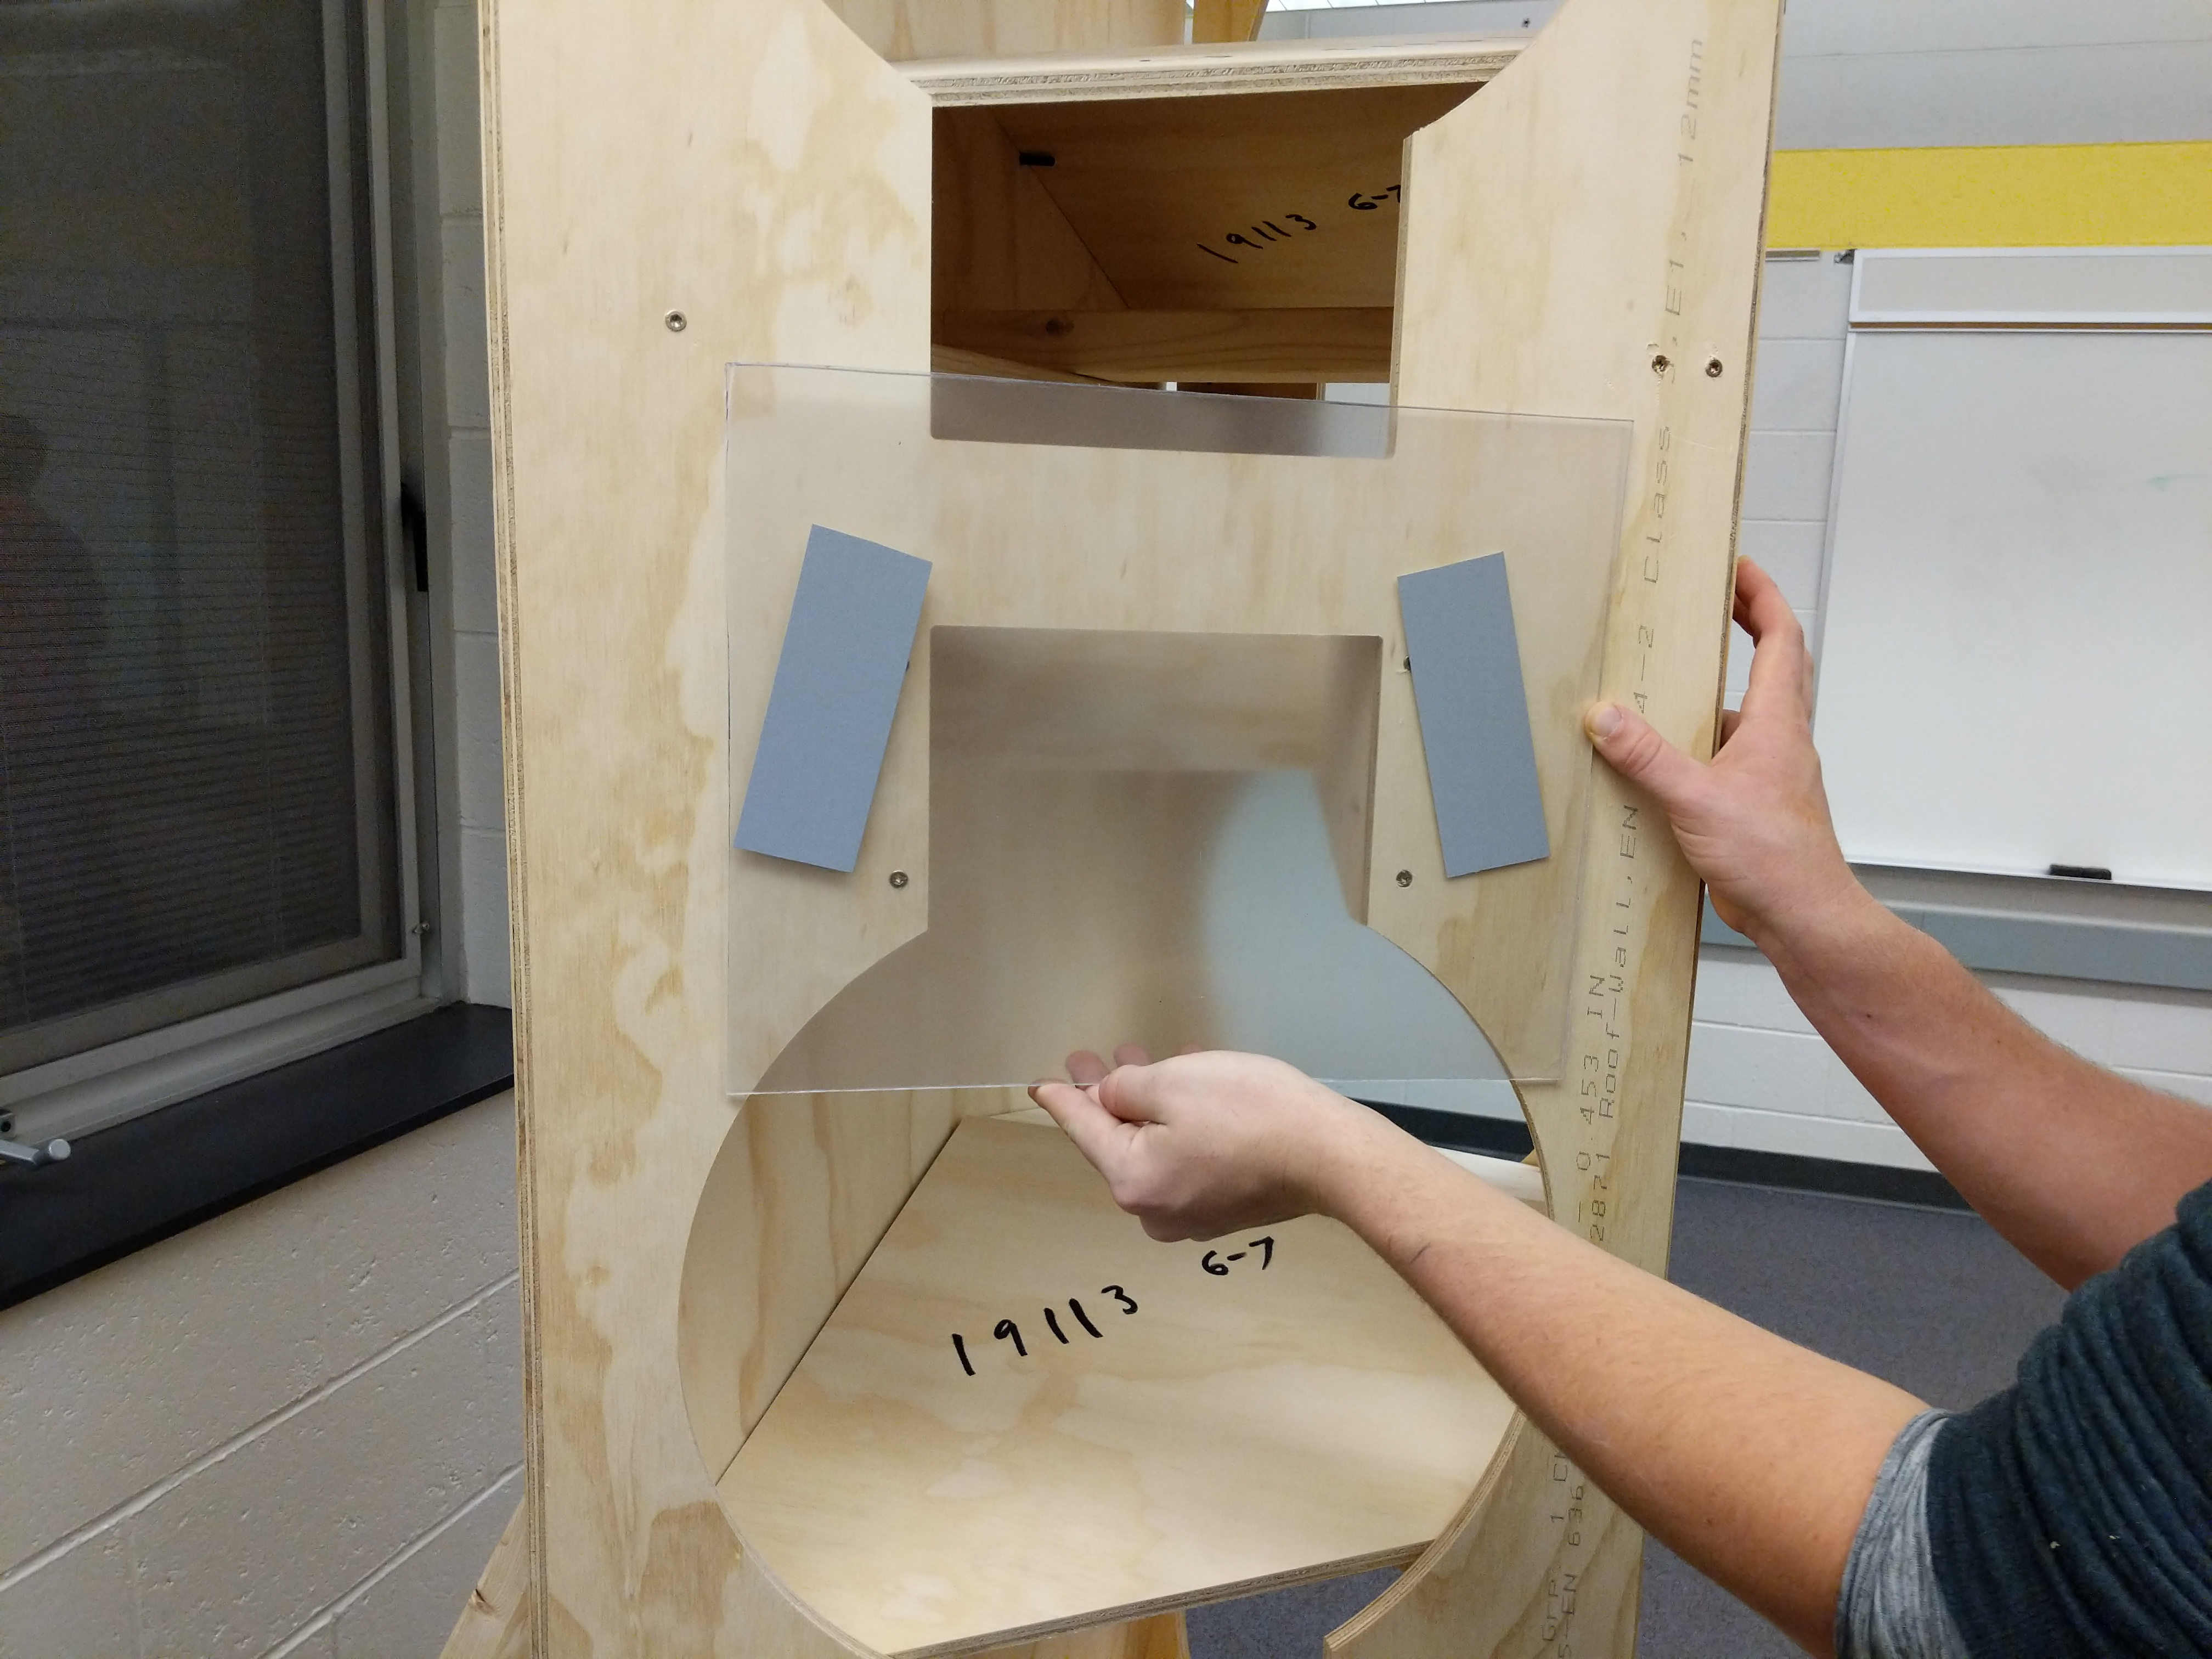vision_target: (730, 518, 1561, 910)
